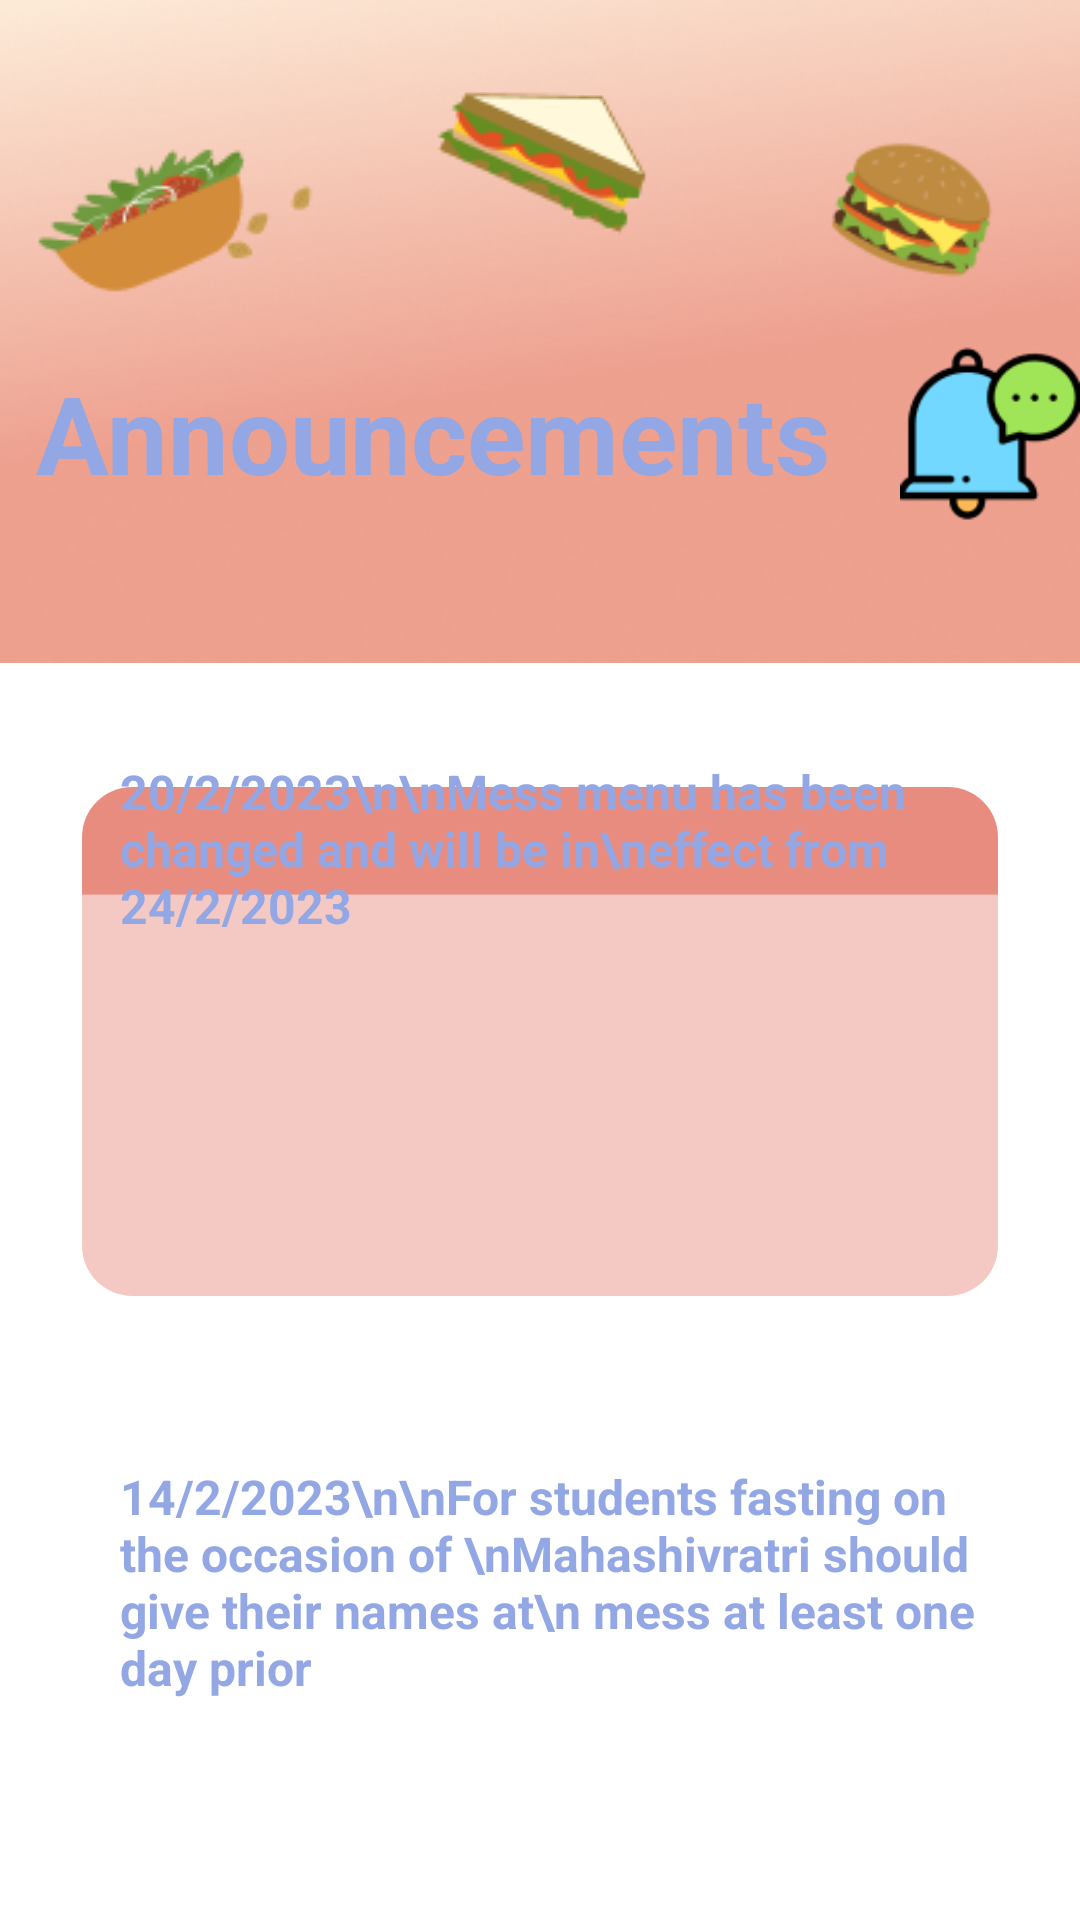

Where to tap for icons on this 1080x1920 app screen, as point (x, y):
bell: point (990, 433)
